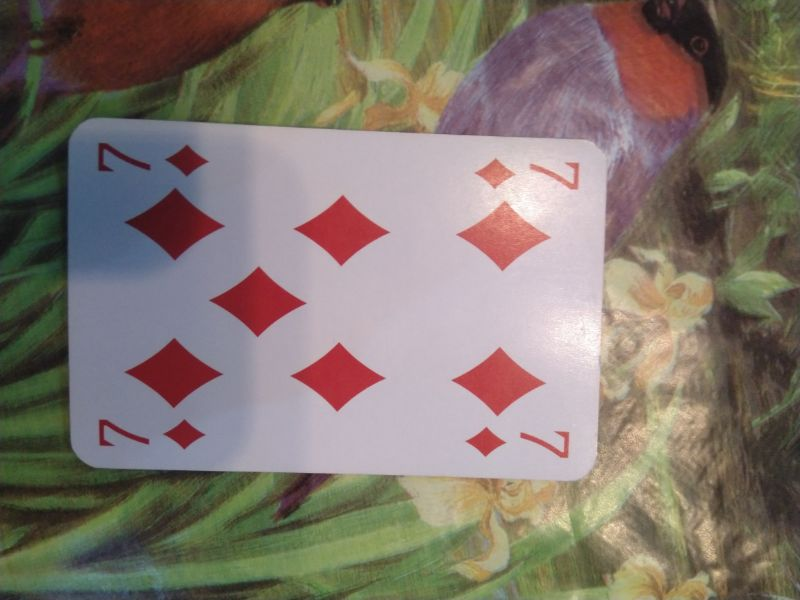7d: (92, 136, 214, 179), (472, 154, 590, 193), (462, 422, 575, 462), (94, 416, 209, 452)
